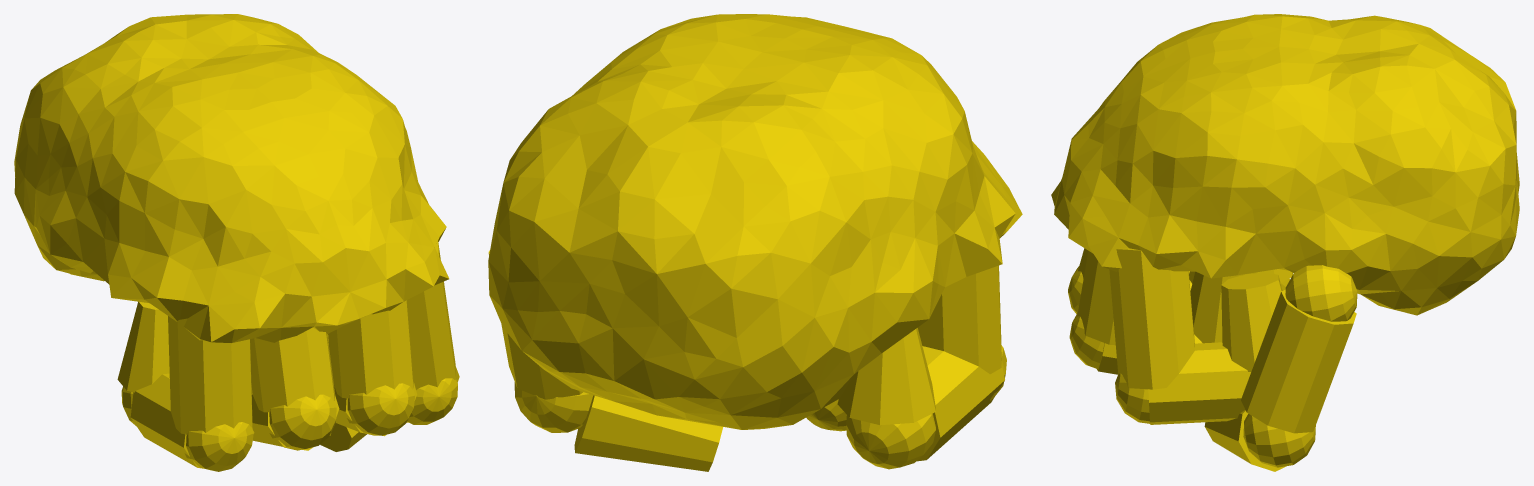
File: Fist.fbx
The picture shows the model from 3 angles, left to right: view 1: azimuth 30°, elevation 25°; view 2: azimuth 150°, elevation 25°; view 3: azimuth 270°, elevation 25°; orthographic projection. The views are drawn at different scales.
Visible parts, largest first — view 1: Cylinder.003; view 2: Cylinder.003; view 3: Cylinder.003.
Part boxes in pixels (left/top/right/bottom): Cylinder.003: left=14, top=14, right=459, bottom=471; Cylinder.003: left=488, top=14, right=1022, bottom=471; Cylinder.003: left=1051, top=14, right=1519, bottom=471.
Bounding box in the file's own units: 277 × 275 × 318.
